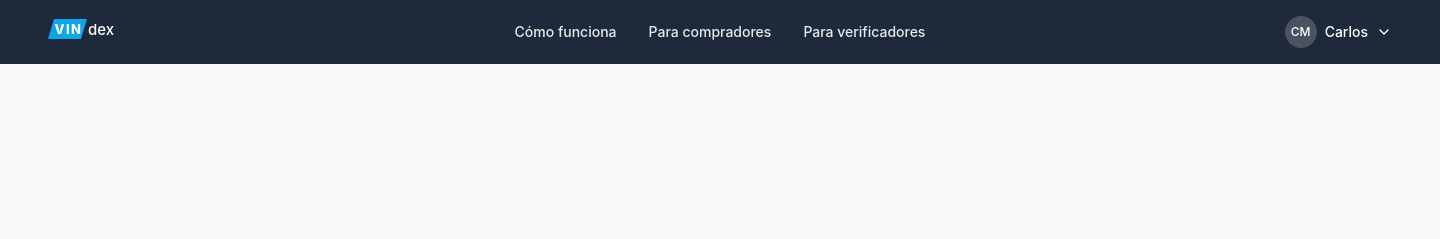
it: LandingHeader › authenticated (user role) › click avatar opens dropdown with dashboard and sign out
Click the text "Carlos" at (1346, 32), box [1325, 22, 1368, 42]
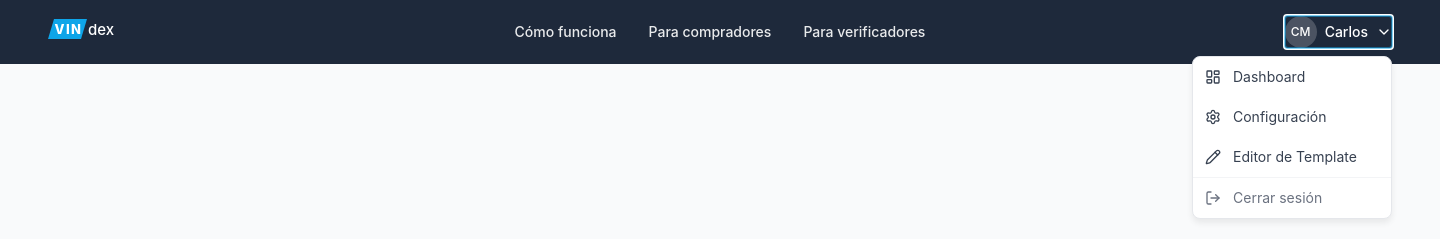
Result: the menu is shown at [1192, 56, 1392, 219]
Result: the menu item "Dashboard" is shown at [1205, 68, 1305, 85]
Result: the menu item "Cerrar sesión" is shown at [1193, 178, 1391, 218]
